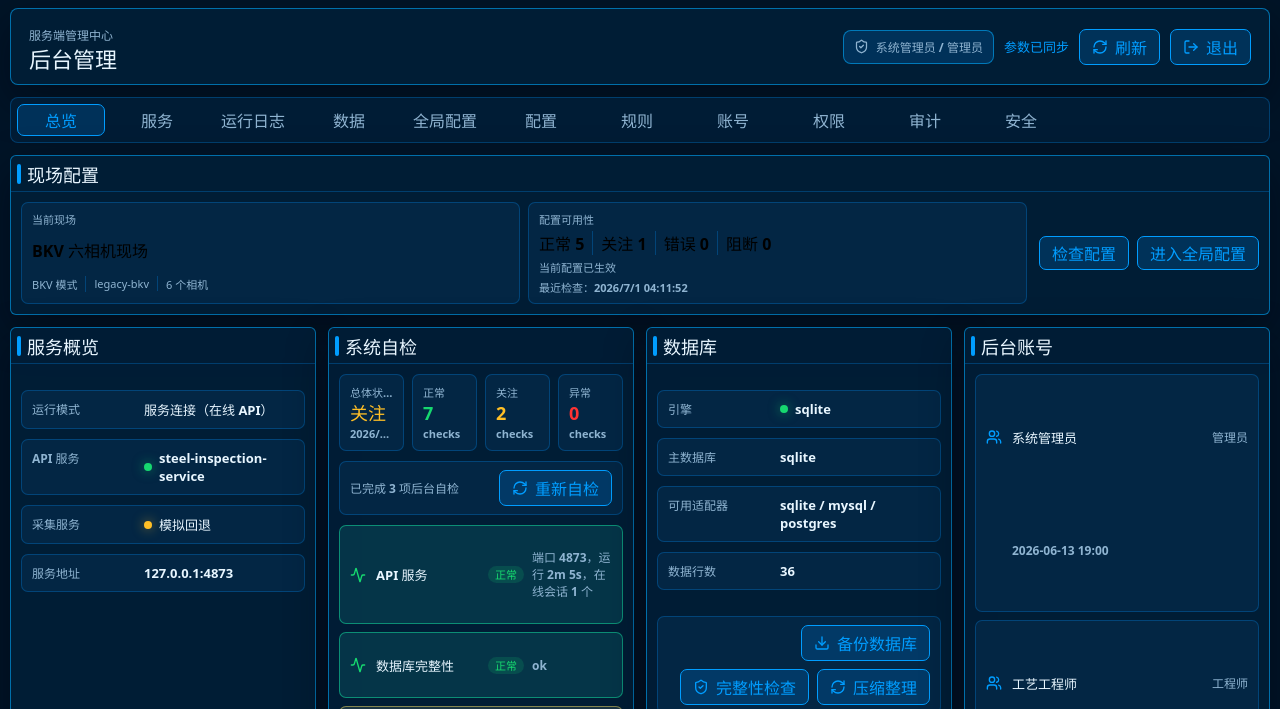
Test: ParameterManagementApp › saves alarm rules through the backend rule management tab
Check: the text "系统管理员" is shown, box [1012,428,1077,446]
Click the button "规则" at (637, 120), box [593,104,681,136]
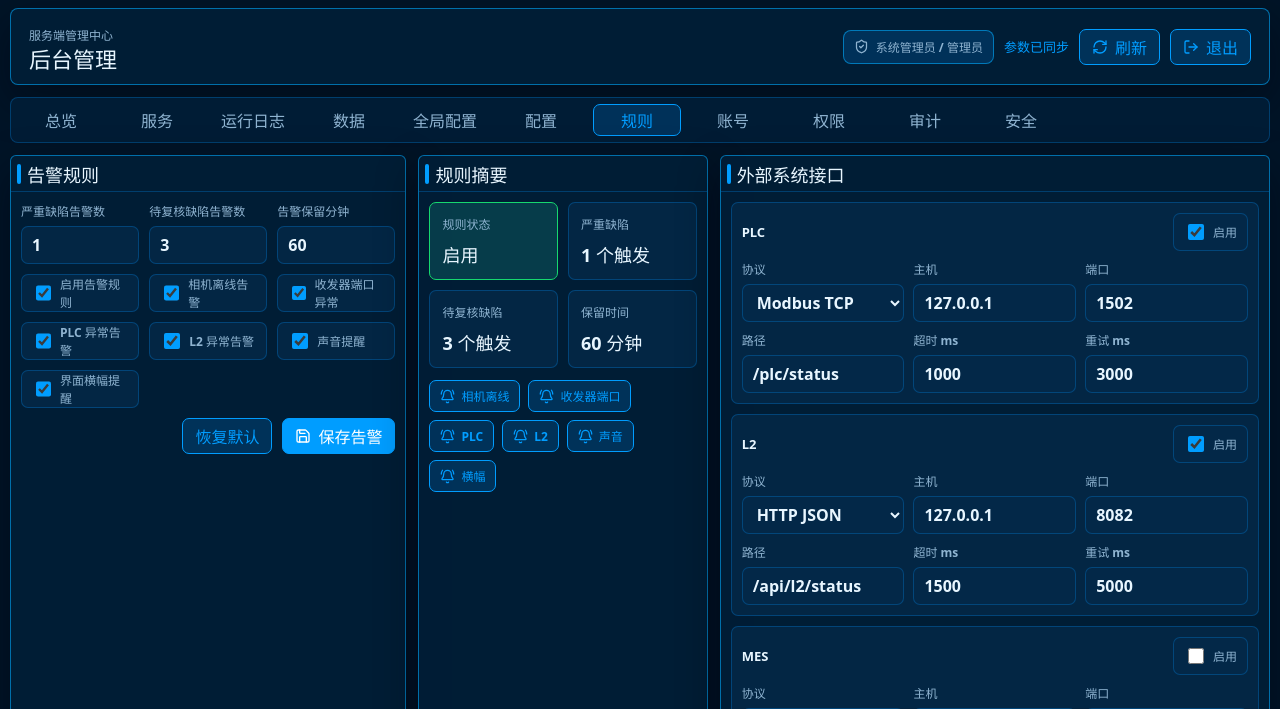
Check: the heading "告警规则" is shown, box [27,162,99,186]
Check: the heading "规则摘要" is shown, box [435,162,507,186]
Check: the text "1 个触发" is shown, box [581,243,650,267]
Replace the text in the number field named "后台严重缺陷告警数" with "2" at (80, 245), box [21,226,139,264]
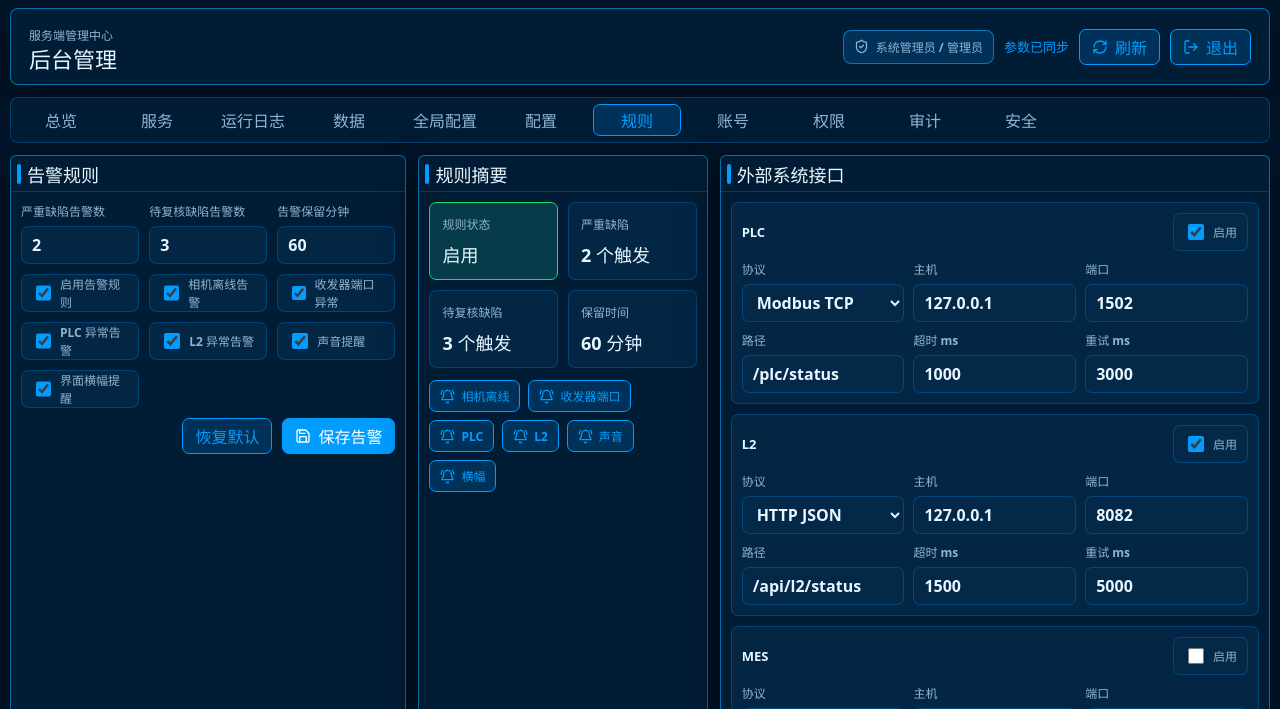
Replace the text in the number field named "后台待复核缺陷告警数" with "4" at (208, 245), box [149,226,267,264]
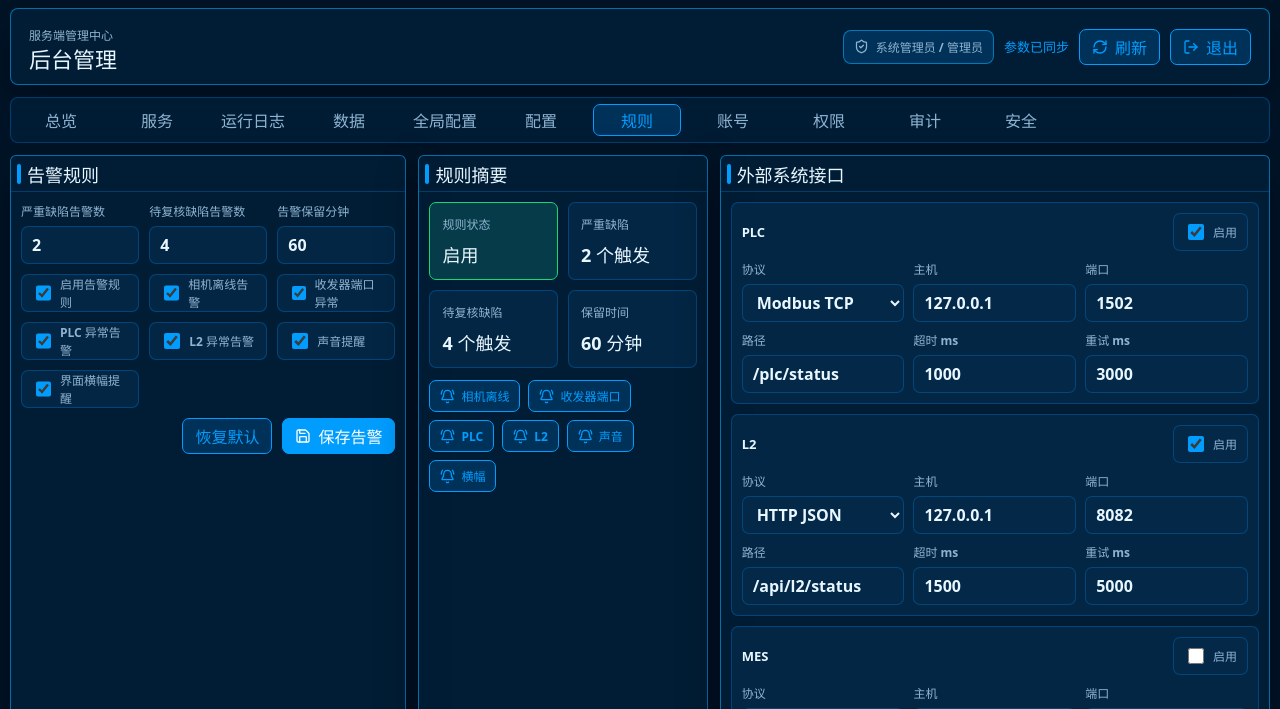
Click the checkbox named "后台PLC异常告警" at (44, 341), box [36,333,51,349]
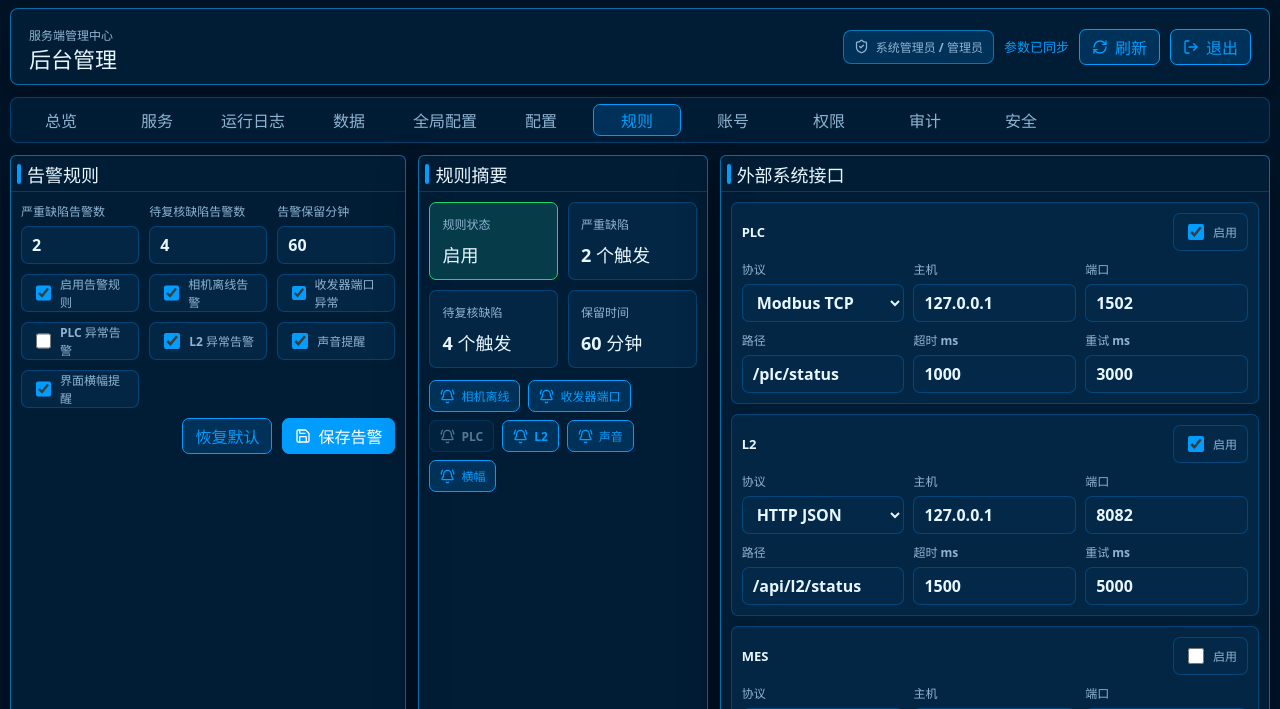
Click the button "保存告警" at (339, 436), box [282,418,395,454]
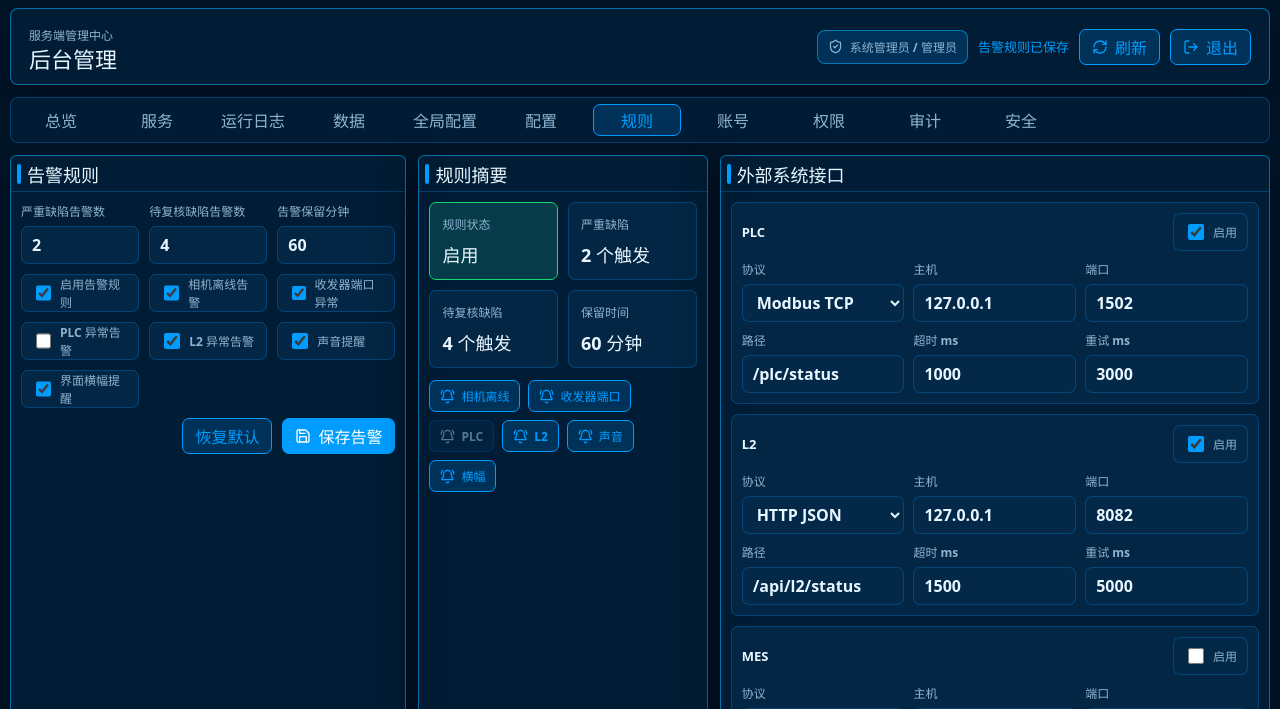
Check: the text "告警规则已保存" is shown, box [978,37,1069,56]
